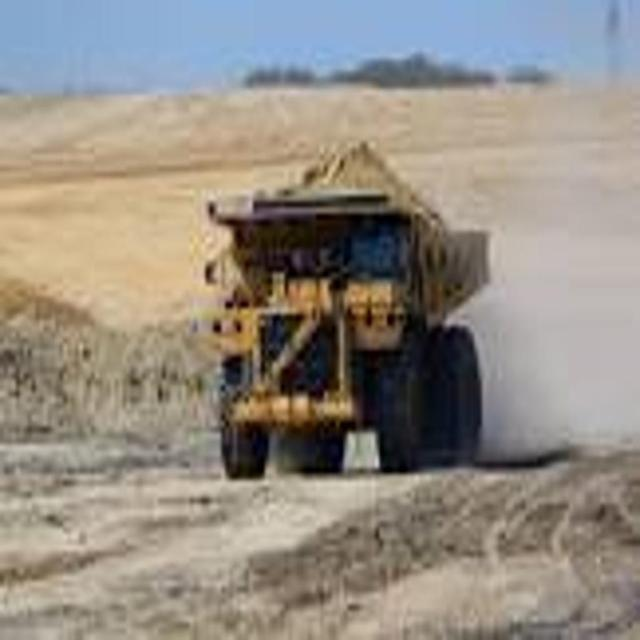dump_truck: (191, 122, 507, 545)
